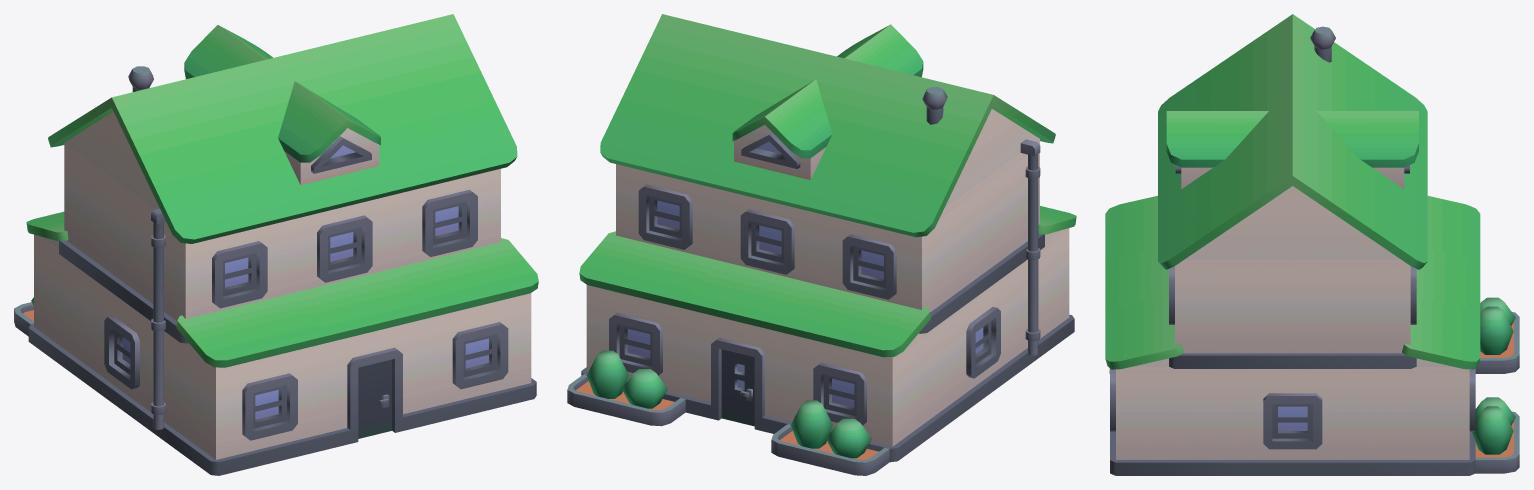
Rendered from sub_building_type_t.glb.
3 views of the same model, side by side, from view 1: azimuth 30°, elevation 25°; view 2: azimuth 150°, elevation 25°; view 3: azimuth 270°, elevation 25° (orthographic). The views are drawn at different scales.
Parts seen in each view (by area): view 1: building-type-t; view 2: building-type-t; view 3: building-type-t.
Part boxes in pixels (<box>): building-type-t: <box>14,14,538,475</box>; building-type-t: <box>567,14,1076,475</box>; building-type-t: <box>1105,14,1519,475</box>.
Size of the model in its own units: 1.31 by 1.16 by 1.41.
Materials: 1 (1 with a texture image).
